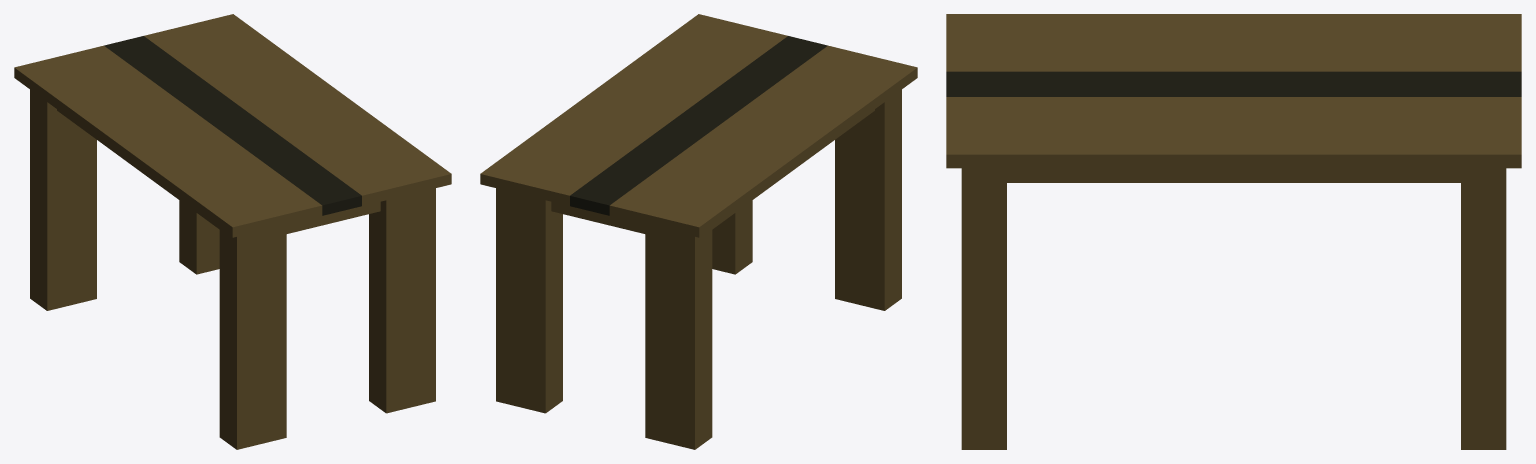
Rendered from Table1(Factory-New).obj.
3 views of the same model, side by side, from view 1: azimuth 30°, elevation 25°; view 2: azimuth 150°, elevation 25°; view 3: azimuth 270°, elevation 25° (orthographic). The views are drawn at different scales.
Size of the model in its own units: 2.2 by 2.2 by 3.8.
Materials: 1 (1 with a texture image).
